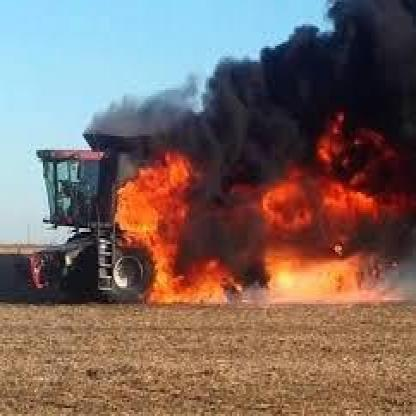fire: (110, 107, 408, 304)
smoke: (180, 34, 403, 160)
